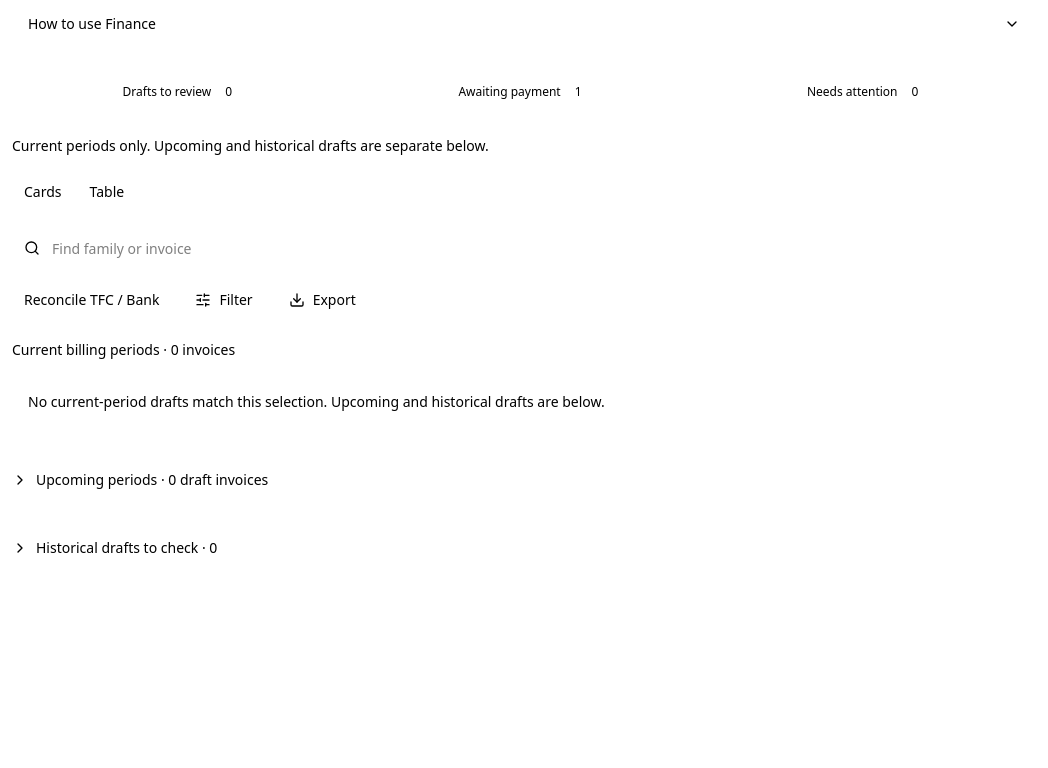
daily finance workflow › clears overdue-only on tab changes instead of silently hiding future debts
Click the button "Awaiting payment 1" at (524, 92), box [355,68,693,116]
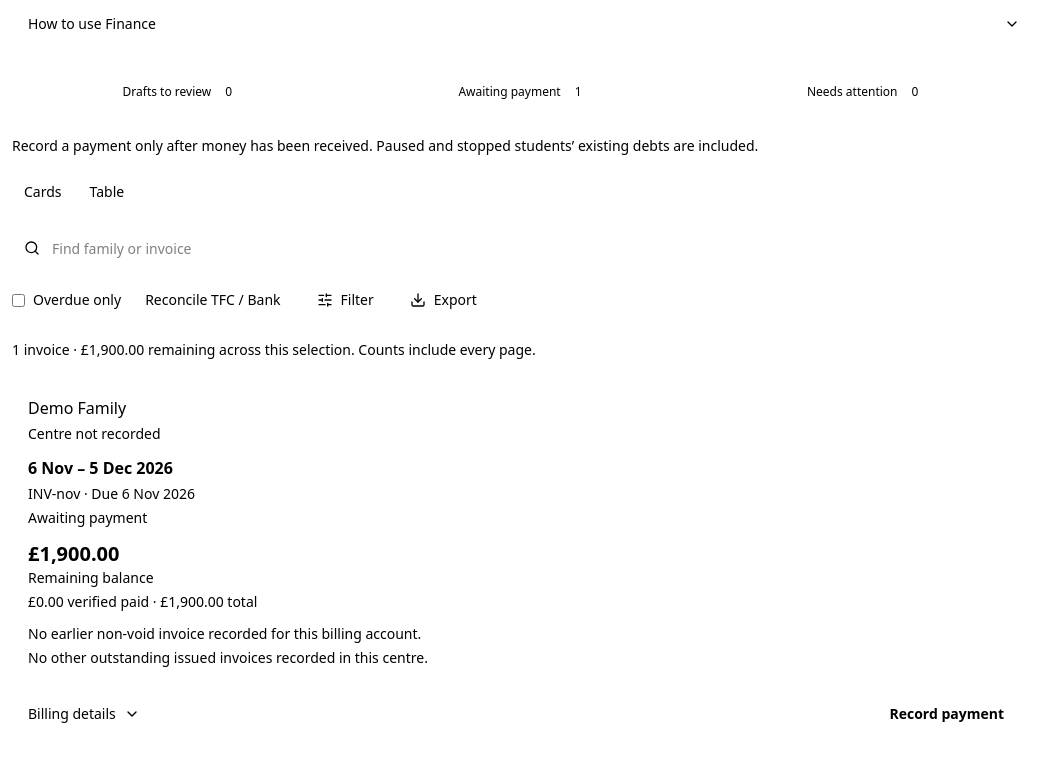
Click the checkbox labelled "Overdue only" at (18, 300), box [12,294,25,306]
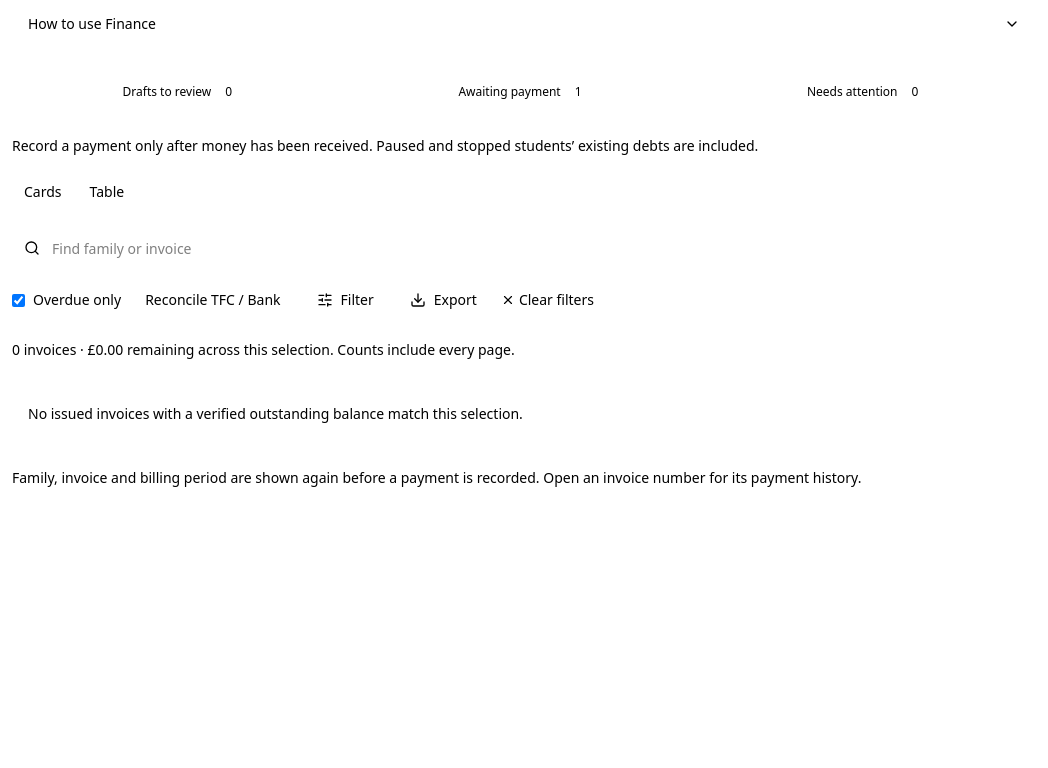
Click the button "Drafts to review 0" at (181, 92), box [12,68,351,116]
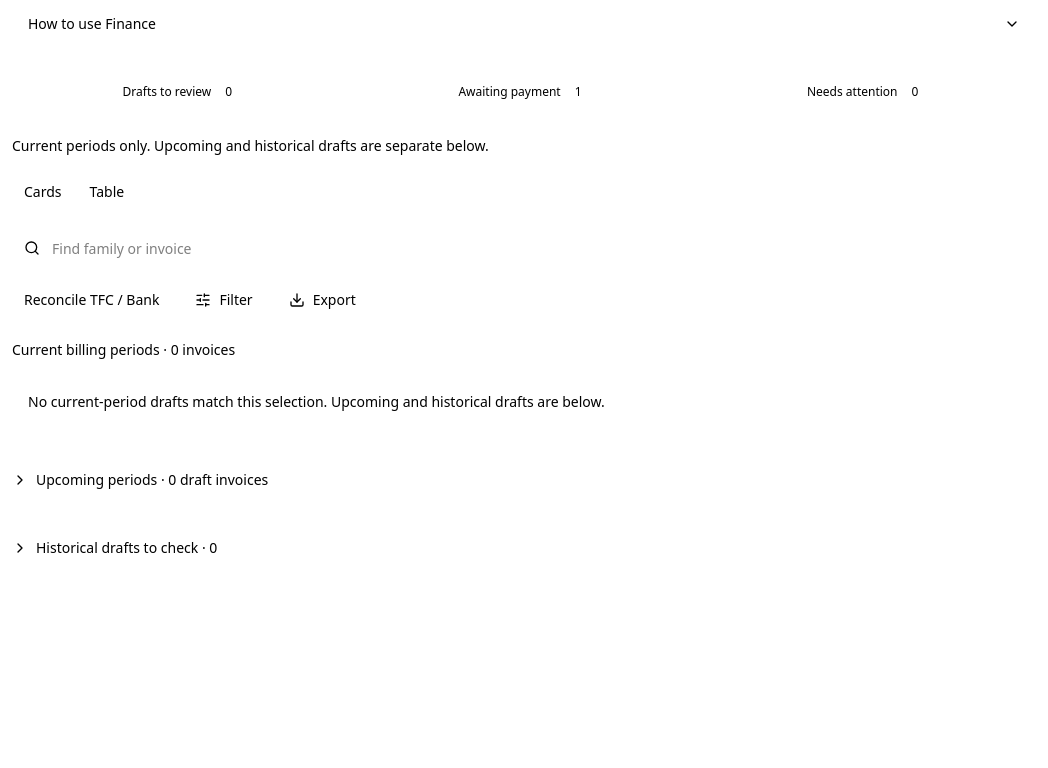
Click the button "Awaiting payment 1" at (524, 92), box [355,68,693,116]
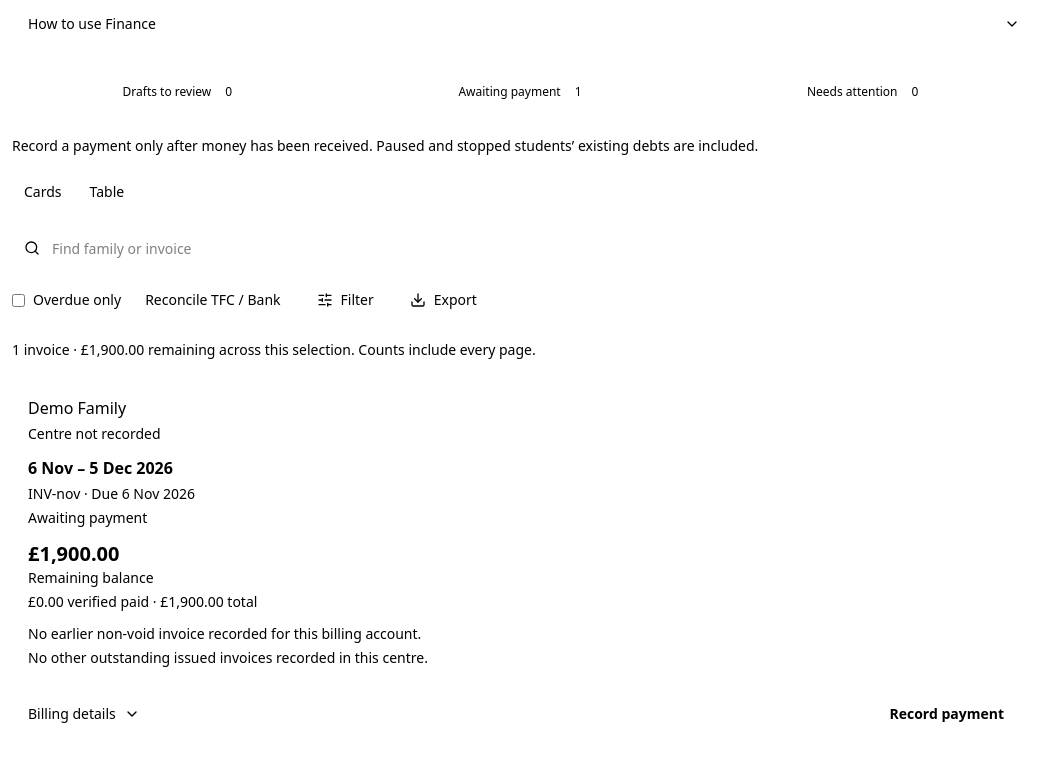
Check: the button with aria-label "Record payment for INV-nov" is shown, box [874,692,1020,736]
